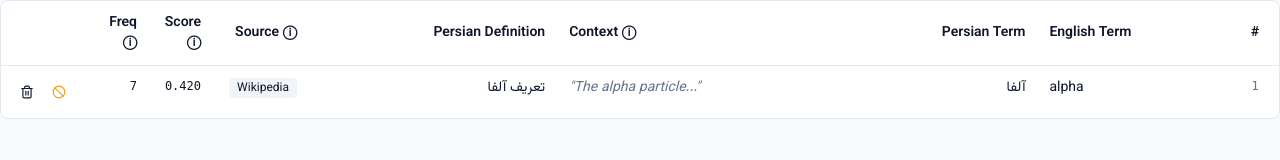
it: GlossaryTable › enters edit mode when cell is clicked
Click the text "آلفا". click: (1016, 88)
box: [1006,77,1025,99]
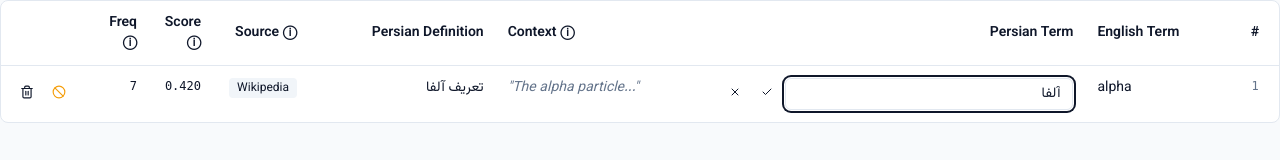
Now the field showing "آلفا" is shown, box [785,78,1073,110]
